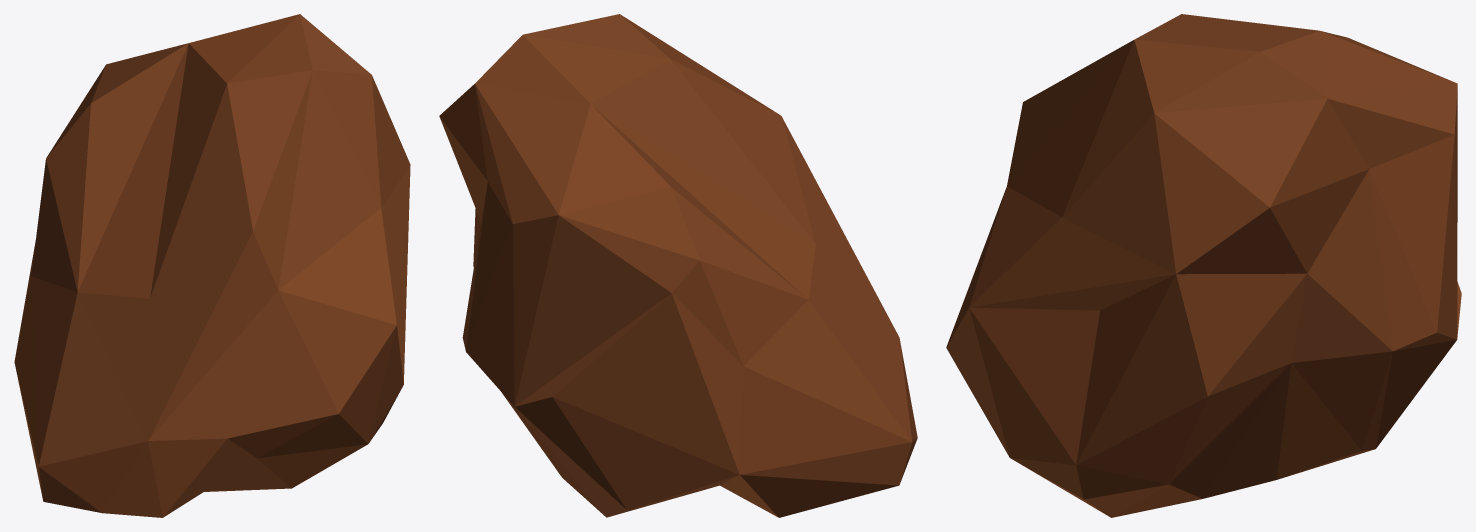
File: Asteroide9.fbx
3 views of the same model, side by side, from view 1: azimuth 30°, elevation 25°; view 2: azimuth 150°, elevation 25°; view 3: azimuth 270°, elevation 25° (orthographic). The views are drawn at different scales.
Parts seen in each view (by area): view 1: Asteroide9; view 2: Asteroide9; view 3: Asteroide9.
Part boxes in pixels (box(x1,y1,x2,y2)): Asteroide9: box(14, 14, 410, 517); Asteroide9: box(439, 14, 917, 517); Asteroide9: box(946, 14, 1461, 517).
Size of the model in its own units: 1.08 by 1.11 by 1.01.
